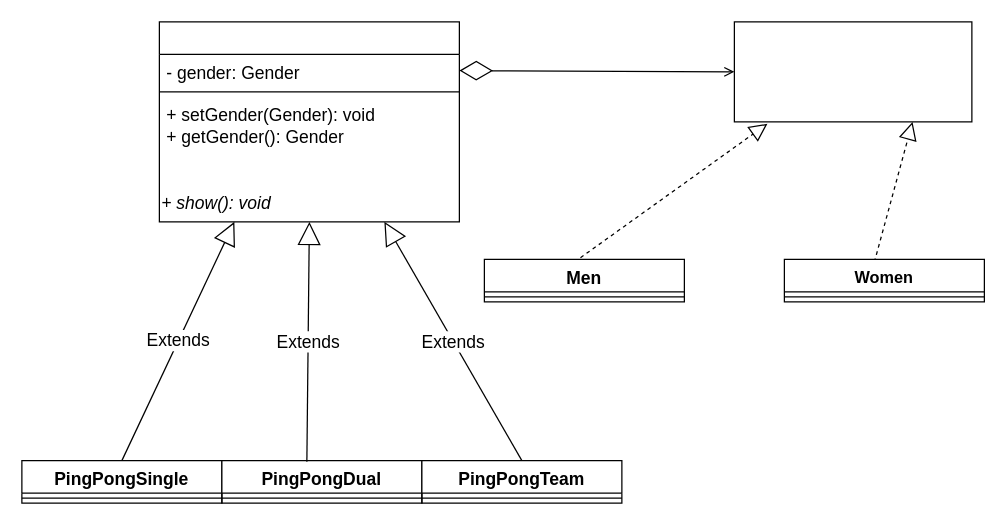
The diagram is 1006 pixels wide and 525 high, and some of its shapes have lost their labels. Each missing label, with the box of its shape:
<<Interface>> Gender + attach Game(String): void: (733, 21, 972, 122)
PingPongGame: (158, 21, 459, 222)
